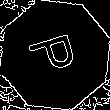P_E: (25, 30, 85, 80)
